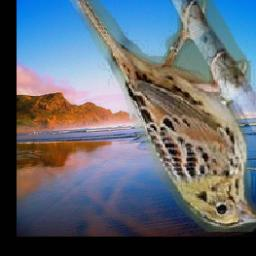Sparrow: (65, 0, 256, 232)
